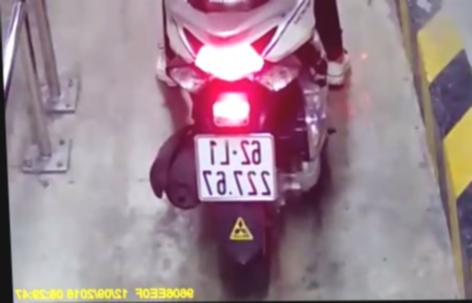License_Plate: (191, 130, 283, 208)
